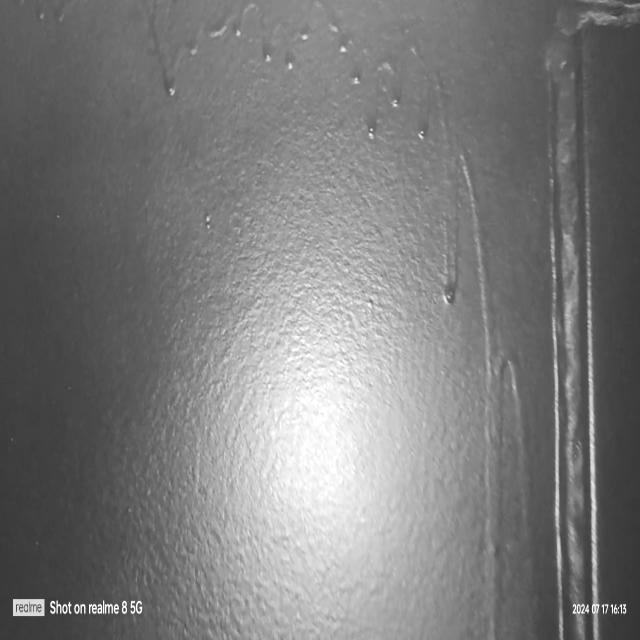paint drips: (438, 58, 544, 640), (136, 0, 440, 172), (11, 0, 84, 35)
